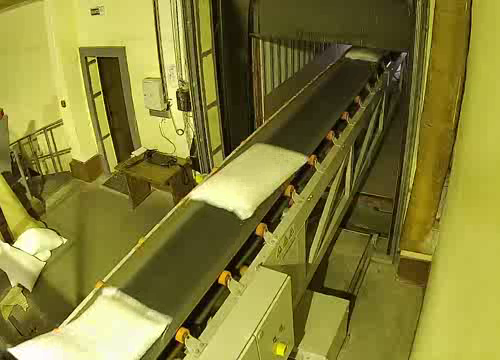bag: (6, 282, 175, 360), (188, 142, 311, 219), (344, 43, 388, 64)
